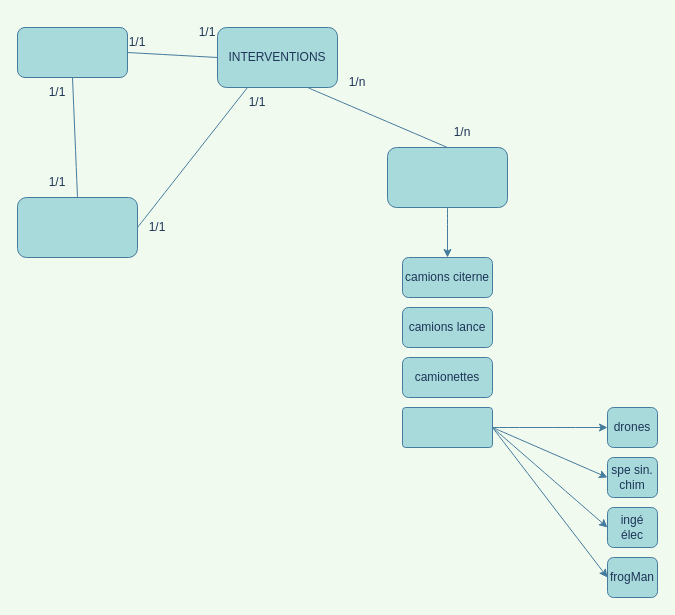
Some shapes in this 675 by 615 pixel diagram are drawn without their labels. The centre of each missing label's shape, as x and y in pixels:
"SINISTRES" goes at (77,227).
"TIMER" goes at (72,52).
"VEHICULES" goes at (447,177).
"vehicules léger" goes at (447,427).
